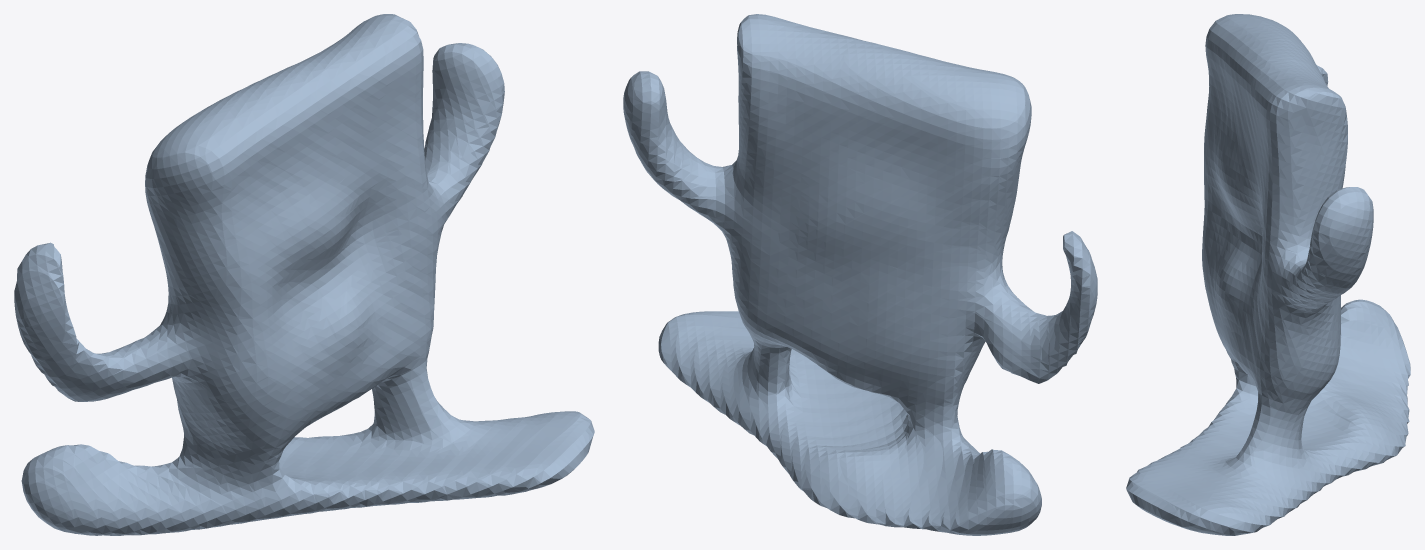
The picture shows the model from 3 angles, left to right: view 1: azimuth 30°, elevation 25°; view 2: azimuth 150°, elevation 25°; view 3: azimuth 270°, elevation 25°; orthographic projection. The views are drawn at different scales.
Parts seen in each view (by area): view 1: ours_mesh; view 2: ours_mesh; view 3: ours_mesh.
Boxes of the visible parts, x1,y1,x2,y2 form: ours_mesh: (14, 14, 594, 535); ours_mesh: (623, 14, 1097, 535); ours_mesh: (1126, 14, 1410, 535).
Bounding box in the file's own units: 0.8019 × 0.6842 × 0.4147.
